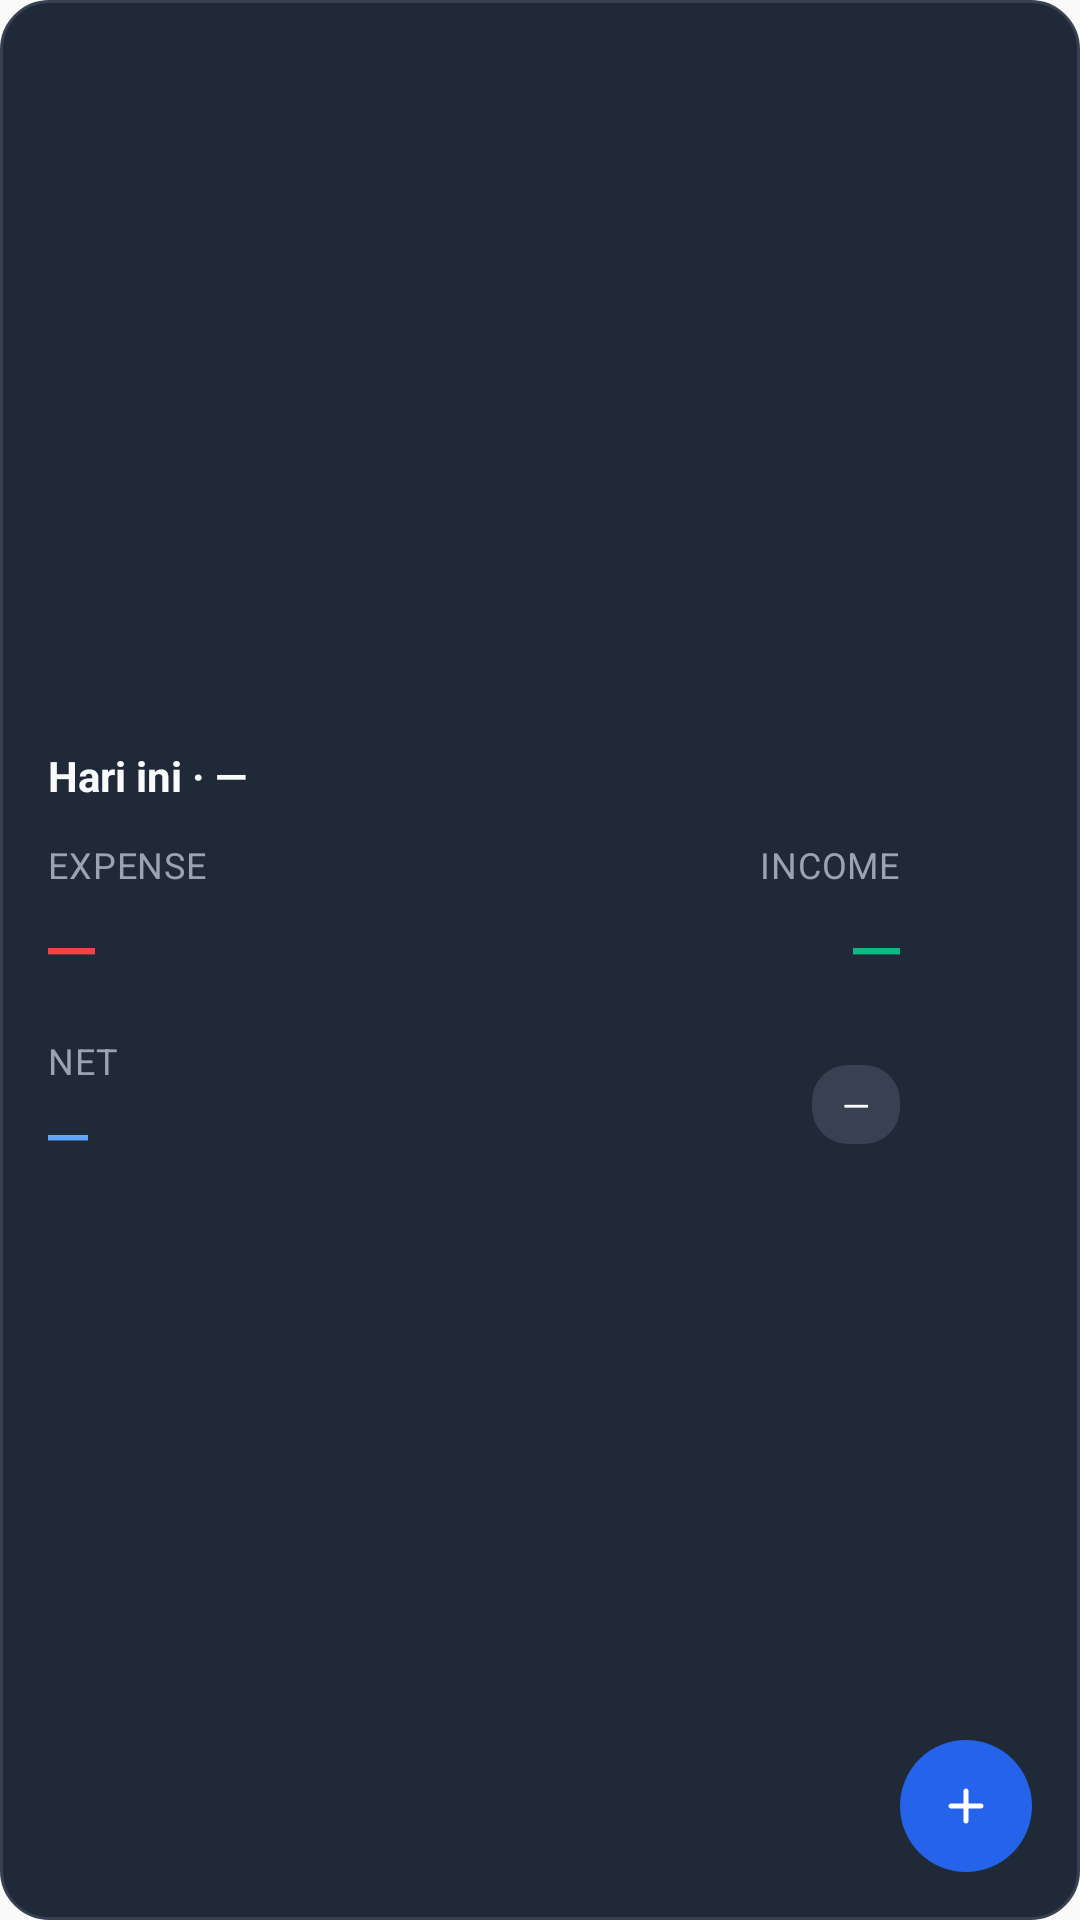

Named icons in this screenshot (1080px×1920px) and their centers, point (x, y):
Tambah transaksi: point (966, 1806)
